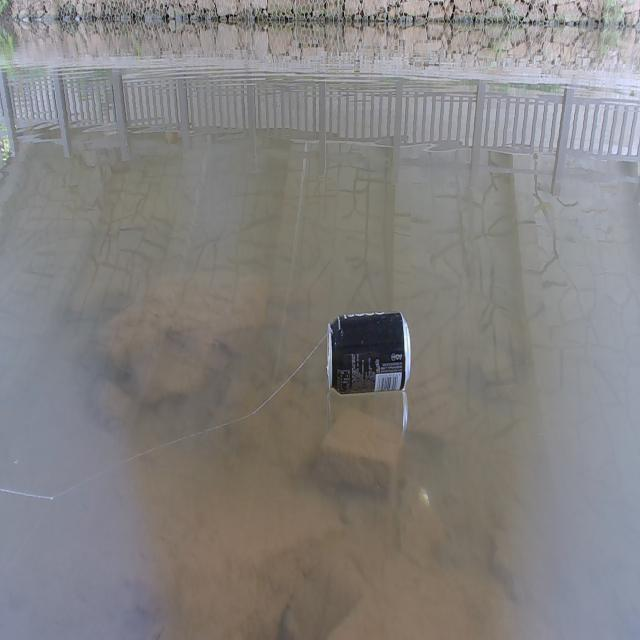Can: (324, 305, 412, 395)
